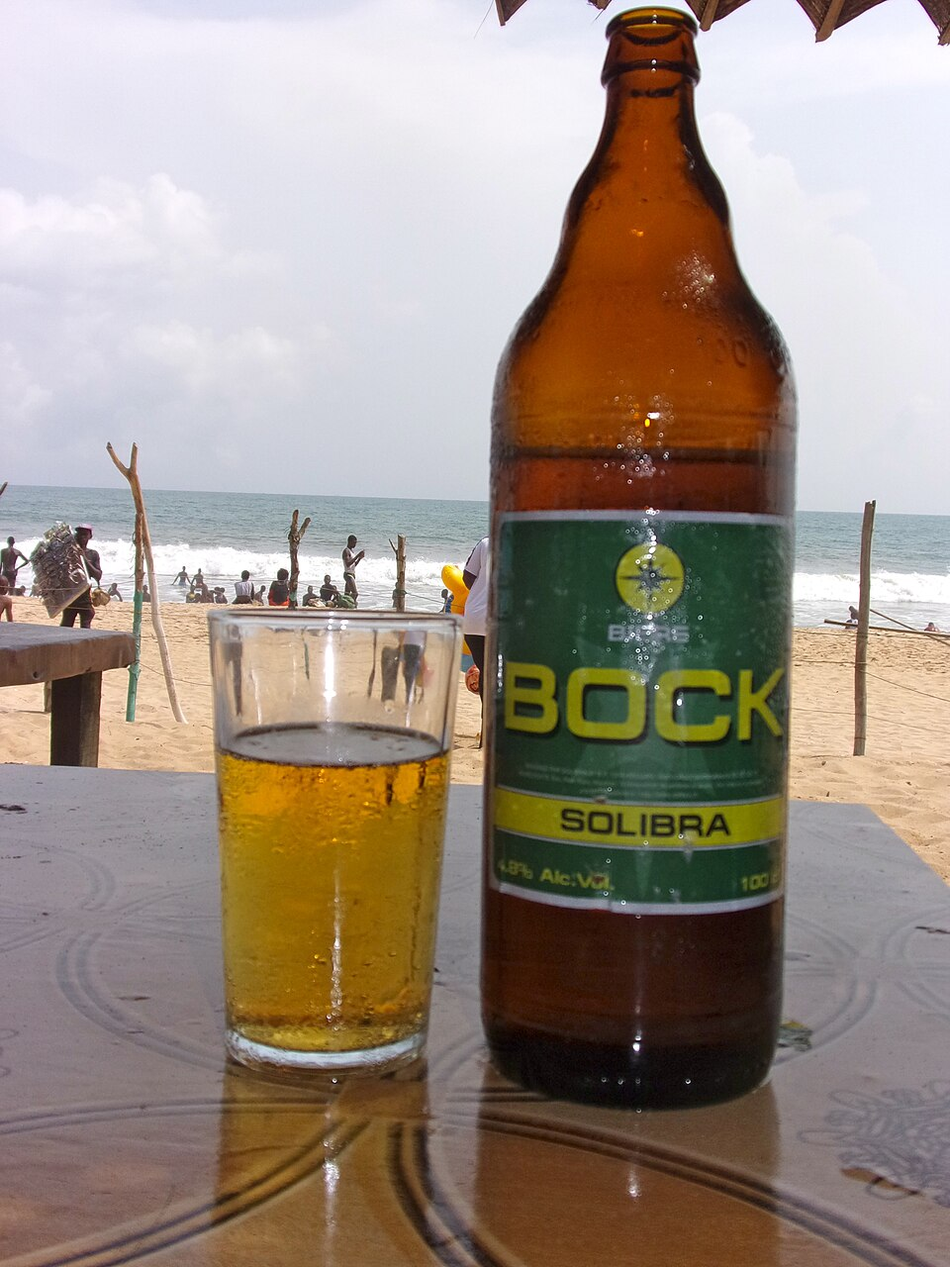beer-bottle: (468, 1, 811, 1110)
